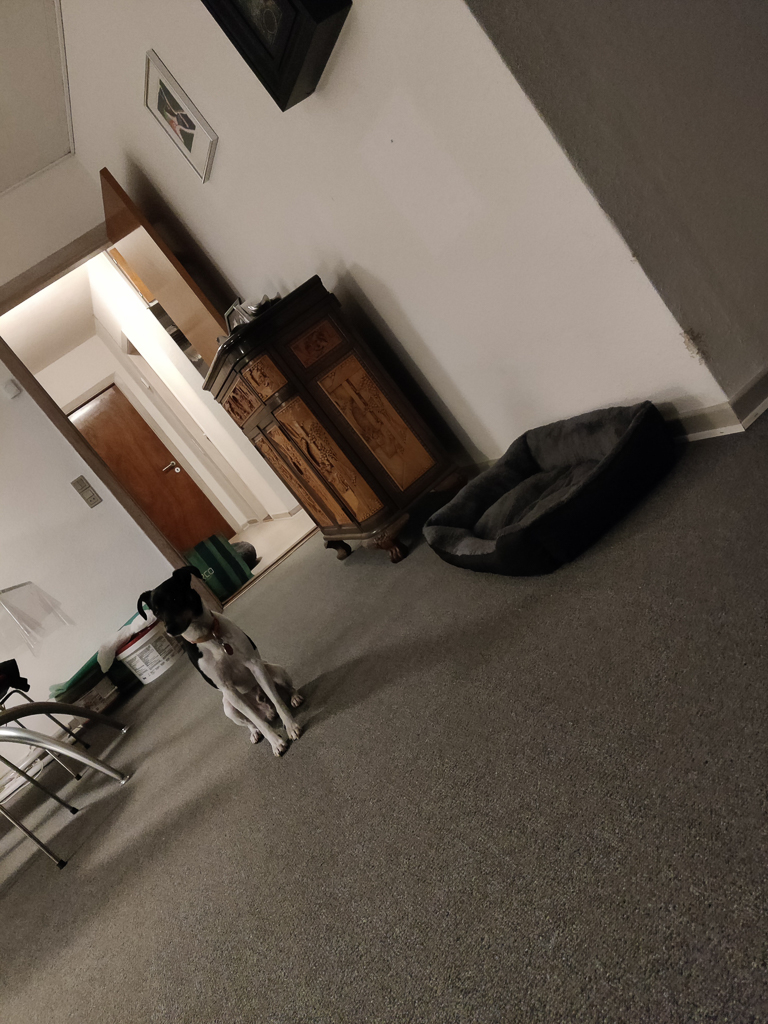Dog: (127, 560, 312, 764)
